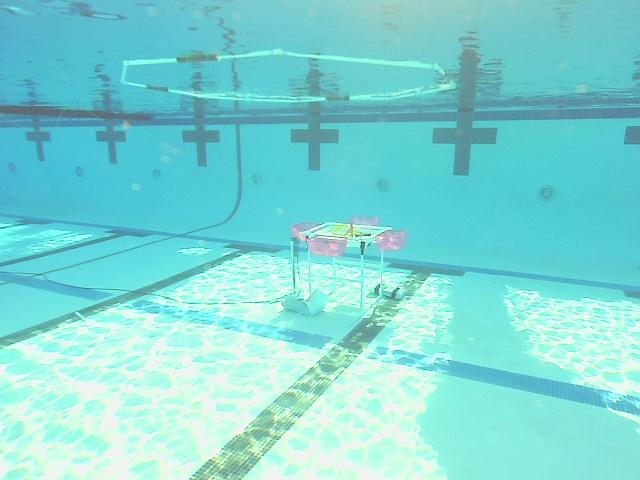table: (291, 216, 408, 311)
